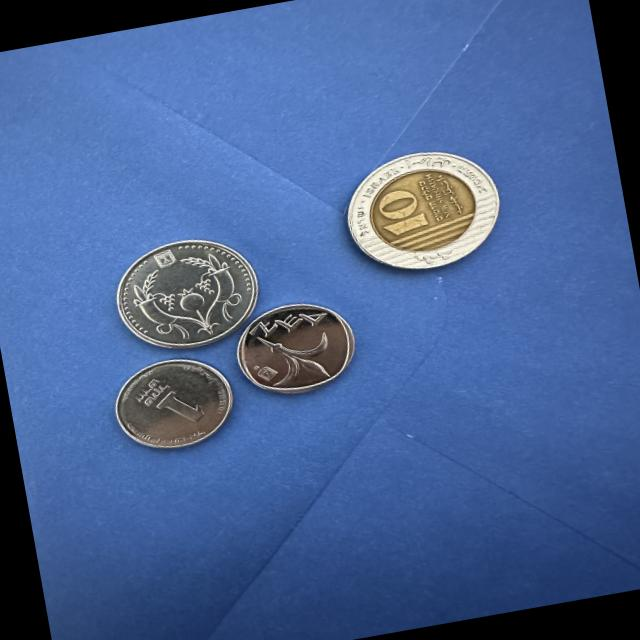1-shekel: (229, 292, 363, 406), (107, 348, 243, 459)
10-shekel: (339, 136, 512, 284)
2-shekel: (104, 225, 268, 358)
